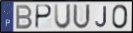B: (15, 4, 34, 30)
J: (94, 5, 108, 29)
O: (111, 4, 129, 31)
P: (34, 4, 53, 30)
U: (72, 3, 92, 31), (53, 3, 72, 31)
